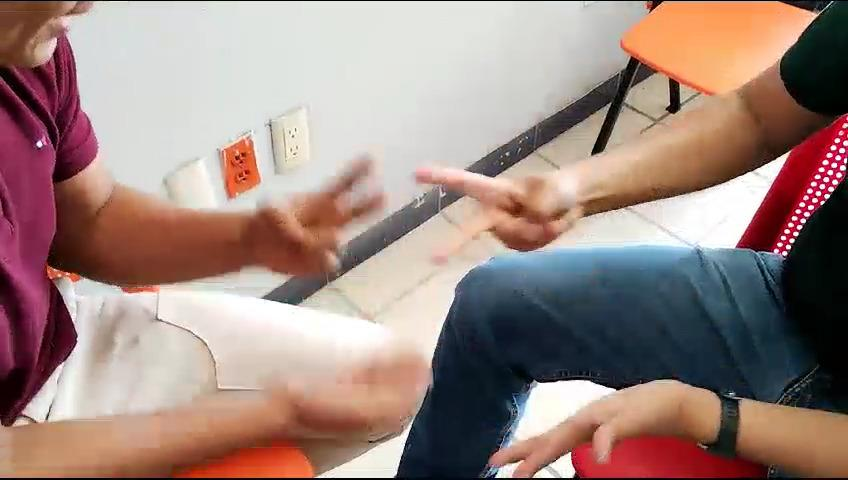Scissor: (406, 148, 608, 277), (229, 147, 397, 291)
